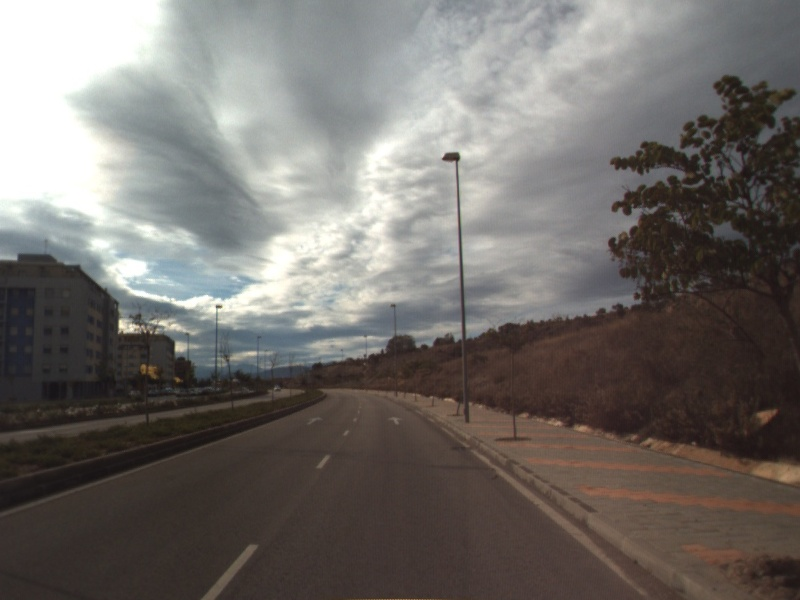STRAIGHT: (305, 415, 326, 426), (386, 415, 405, 426)
